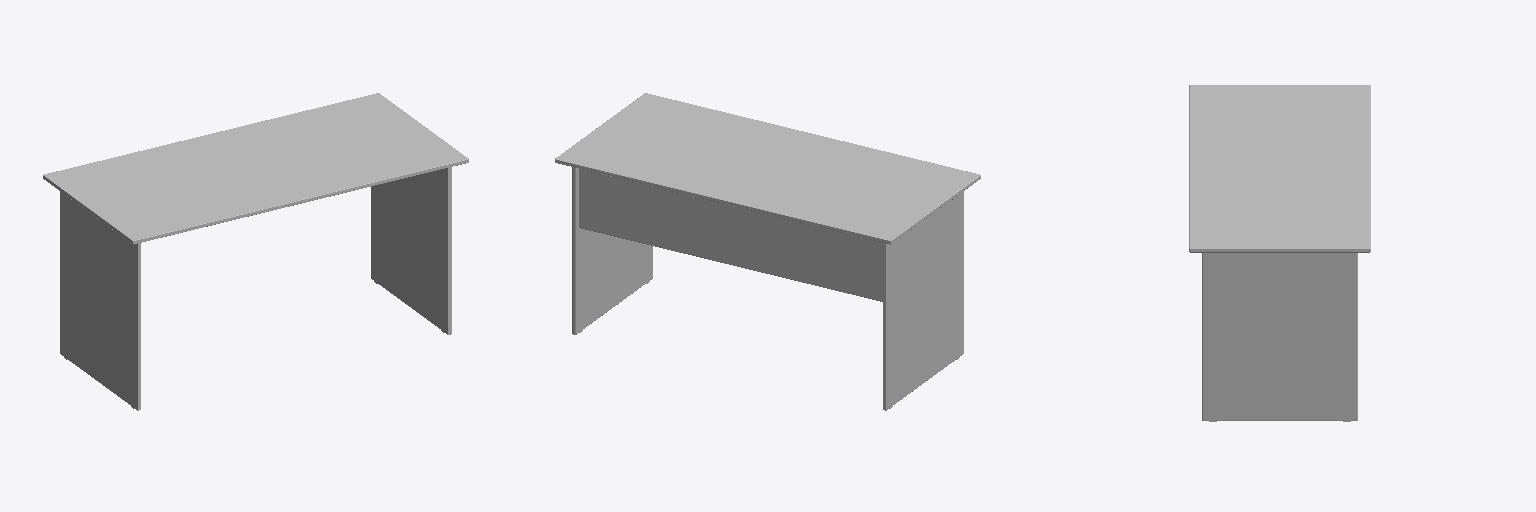
The model's file is mesa_3.obj.
The picture shows the model from 3 angles: view 1: azimuth 30°, elevation 25°; view 2: azimuth 150°, elevation 25°; view 3: azimuth 270°, elevation 25°; orthographic projection.
Visible parts, largest first — view 1: P, p1; view 2: P, p1, p2; view 3: P, p1.
Part boxes in pixels (left/top/right/bottom): P: left=43, top=93, right=468, bottom=244; p1: left=60, top=167, right=451, bottom=410; P: left=555, top=93, right=980, bottom=244; p1: left=572, top=167, right=963, bottom=410; p2: left=579, top=169, right=882, bottom=301; P: left=1189, top=85, right=1370, bottom=252; p1: left=1202, top=253, right=1357, bottom=420.
Bounding box in the file's own units: 1.5 × 0.7595 × 0.7.